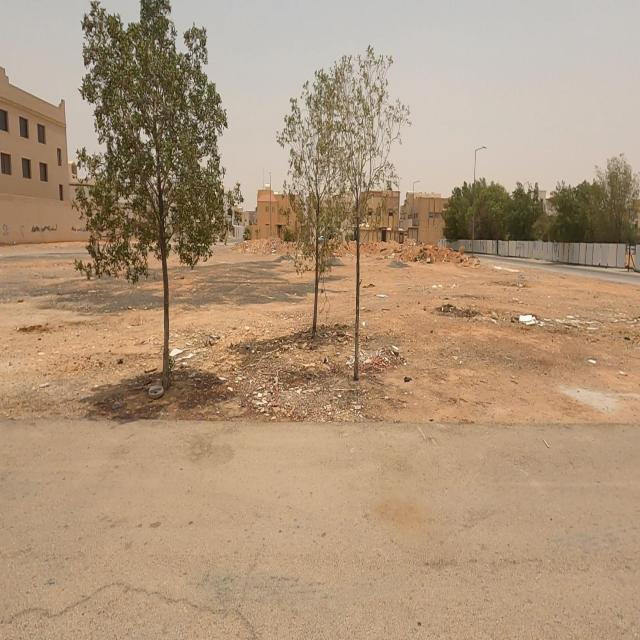Graffiti: (35, 223, 60, 235), (2, 220, 11, 240), (72, 225, 88, 235), (20, 223, 29, 239)
